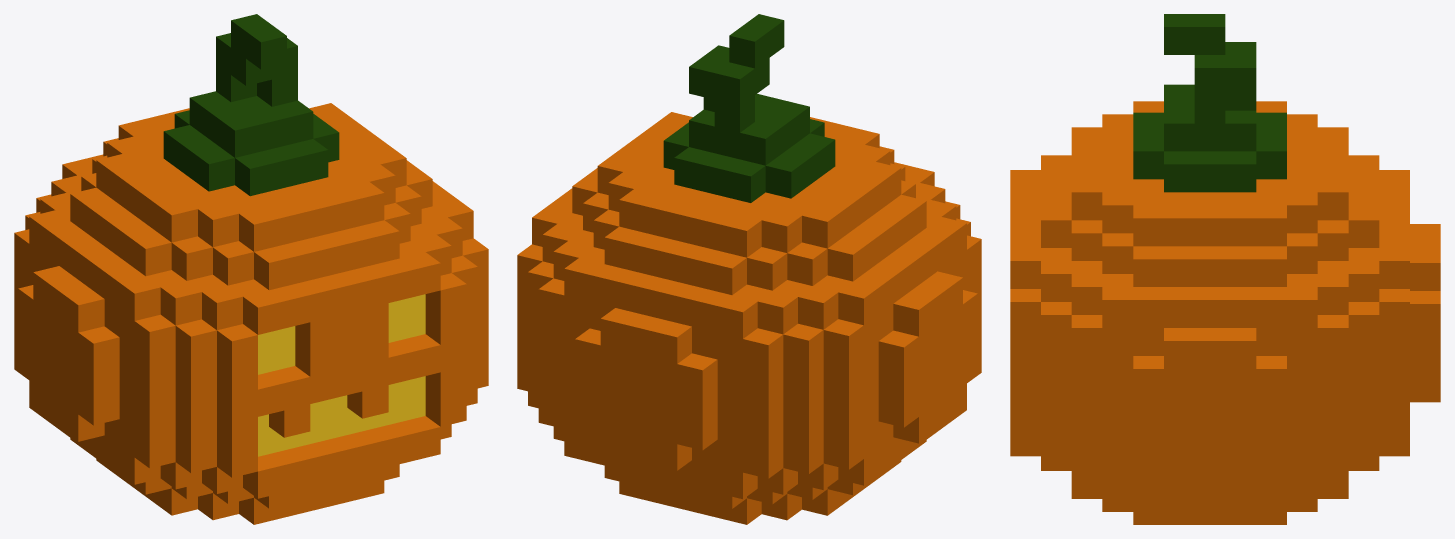
File: Jack-O-Lantern.fbx
3 views of the same model, side by side, from view 1: azimuth 30°, elevation 25°; view 2: azimuth 150°, elevation 25°; view 3: azimuth 270°, elevation 25° (orthographic). The views are drawn at different scales.
Visible parts, largest first — view 1: Untitled; view 2: Untitled; view 3: Untitled.
Boxes of the visible parts, x1,y1,x2,y2 form: Untitled: (14, 14, 488, 524); Untitled: (517, 14, 981, 524); Untitled: (1010, 14, 1440, 524).
Size of the model in its own units: 150 by 160 by 140.
